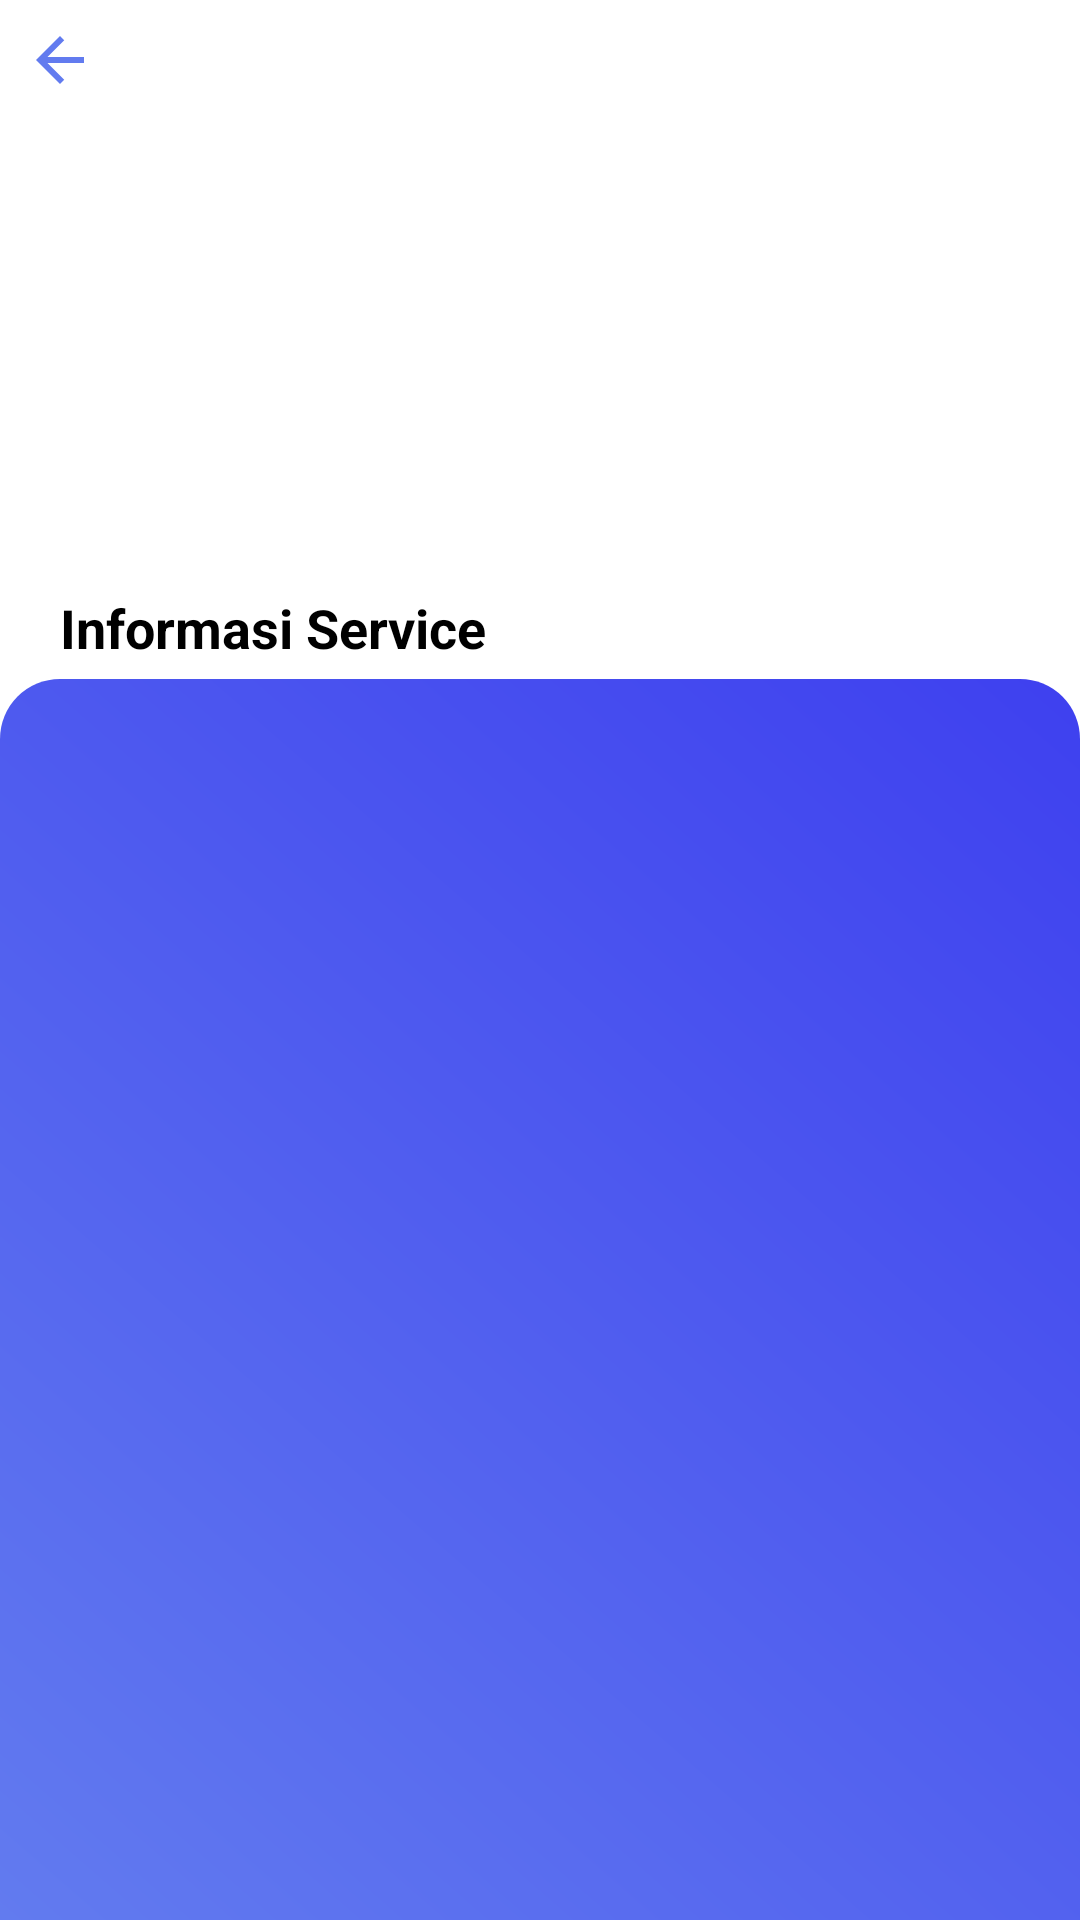

Where icons sit on this 1080×1920 app screen, as region(x1, y1, x2, y2):
arrow back: region(36, 36, 84, 84)
